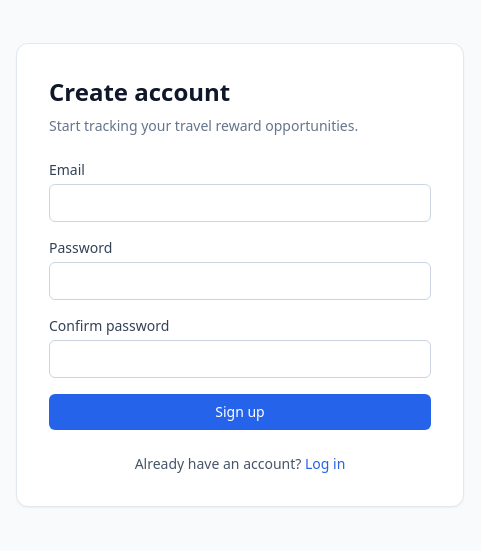
Test: SignUpPage validation › requires all fields
Click the button "Sign up" at (240, 412), box [49,394,431,430]
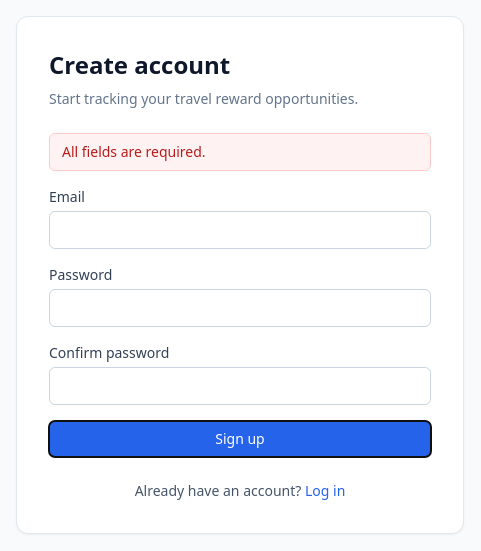
expect the text "All fields are required." is shown: met, box [49,133,431,171]
